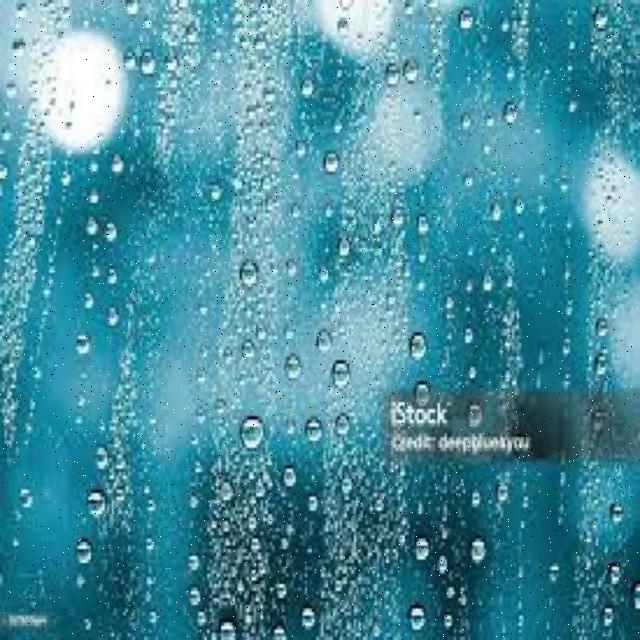raindrop: (237, 408, 274, 468), (404, 522, 438, 574), (406, 315, 436, 370), (236, 245, 267, 298), (82, 483, 116, 531), (284, 340, 311, 400), (330, 346, 360, 399), (405, 594, 433, 640), (469, 522, 491, 572), (279, 455, 302, 501), (70, 540, 96, 578), (411, 376, 436, 415), (467, 396, 488, 439)
